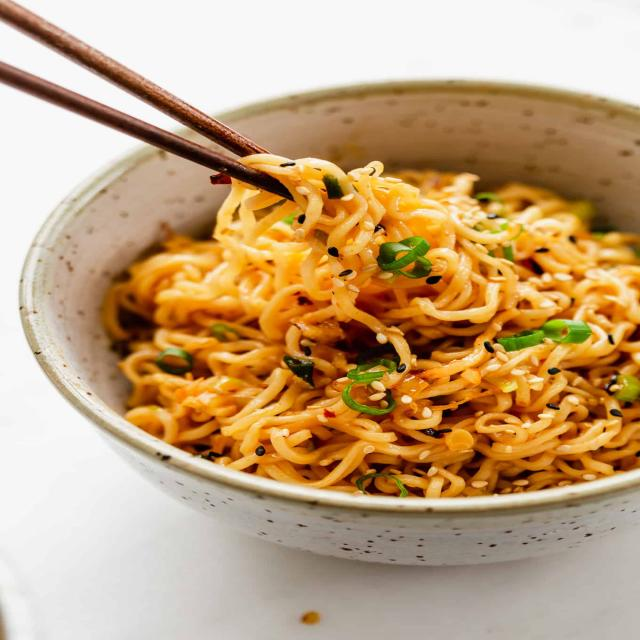Noodle: (103, 150, 640, 507)
